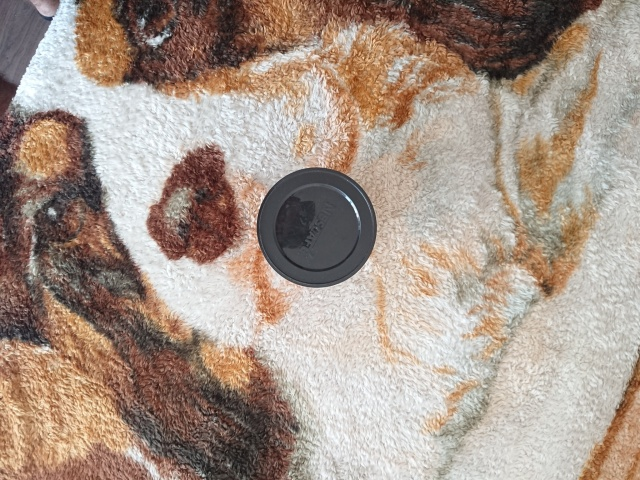Nescafe Classic 225g: (252, 164, 381, 291)
